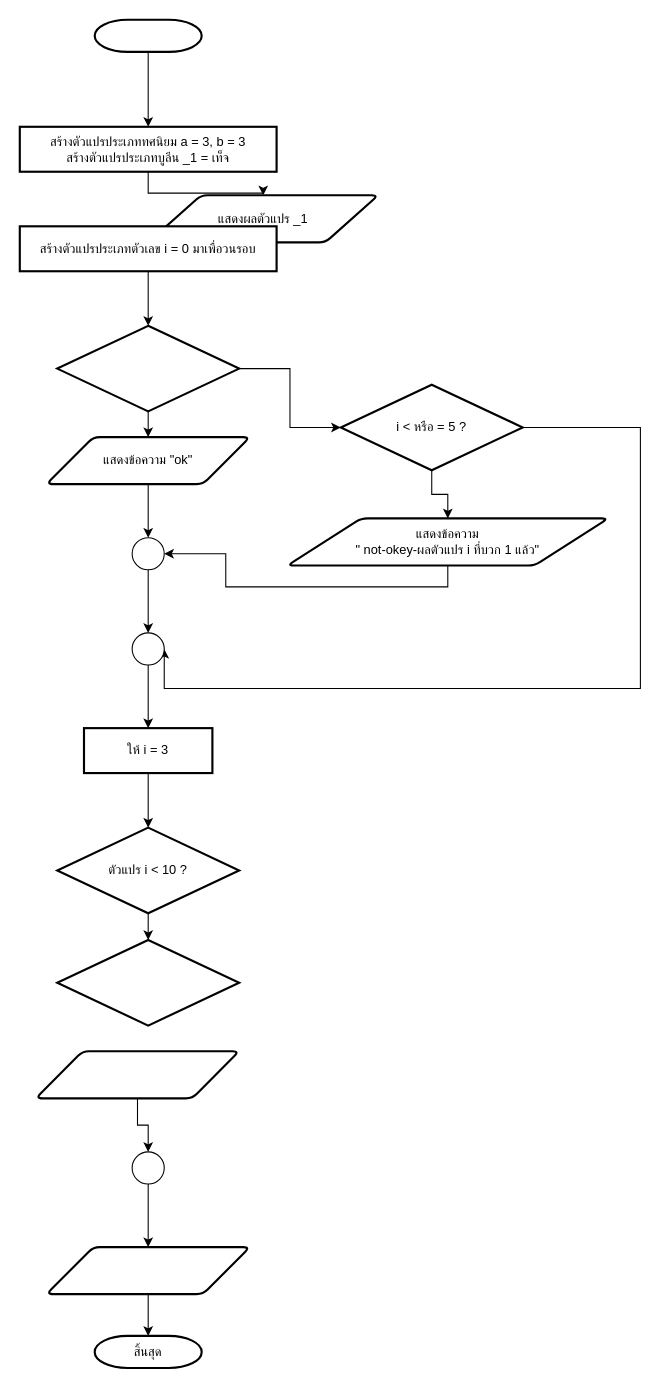
The diagram is 668 pixels wide and 1387 high, and some of its shapes have lost their labels. Here are the shapes that lost their labels. From the top down, the centre of each, then its label:
point (147, 35): เริ่มต้น
point (148, 368): ตัวแปร _1 เป็นจริง ?
point (148, 982): ตัวแปร i mod 2 = (!1 ? 1 : 2) ?
point (137, 1074): แสดงข้อความ "see see"
point (147, 1270): แสดงข้อความ "haha"
